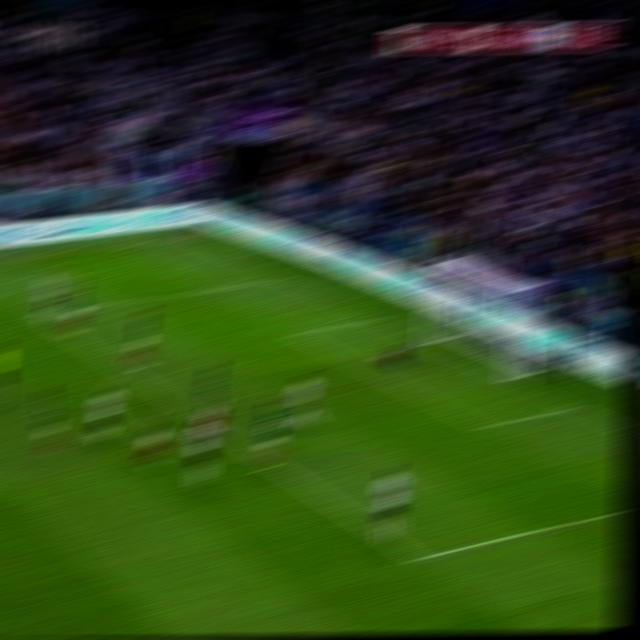bigarea_bottom_inner: (406, 551, 428, 567)
bigarea_top_inner: (28, 309, 47, 318)
bigarea_top_outter: (272, 275, 290, 281)
bottom_arc_area_intersection: (263, 460, 283, 469)
corner: (177, 237, 198, 240)
smallarea_bottom_inner: (473, 420, 495, 433)
smallarea_bottom_outter: (563, 403, 585, 413)
smallarea_top_inner: (288, 329, 307, 338)
smallarea_top_outter: (363, 314, 383, 323)
top_arc_area_intersection: (116, 366, 136, 376)
